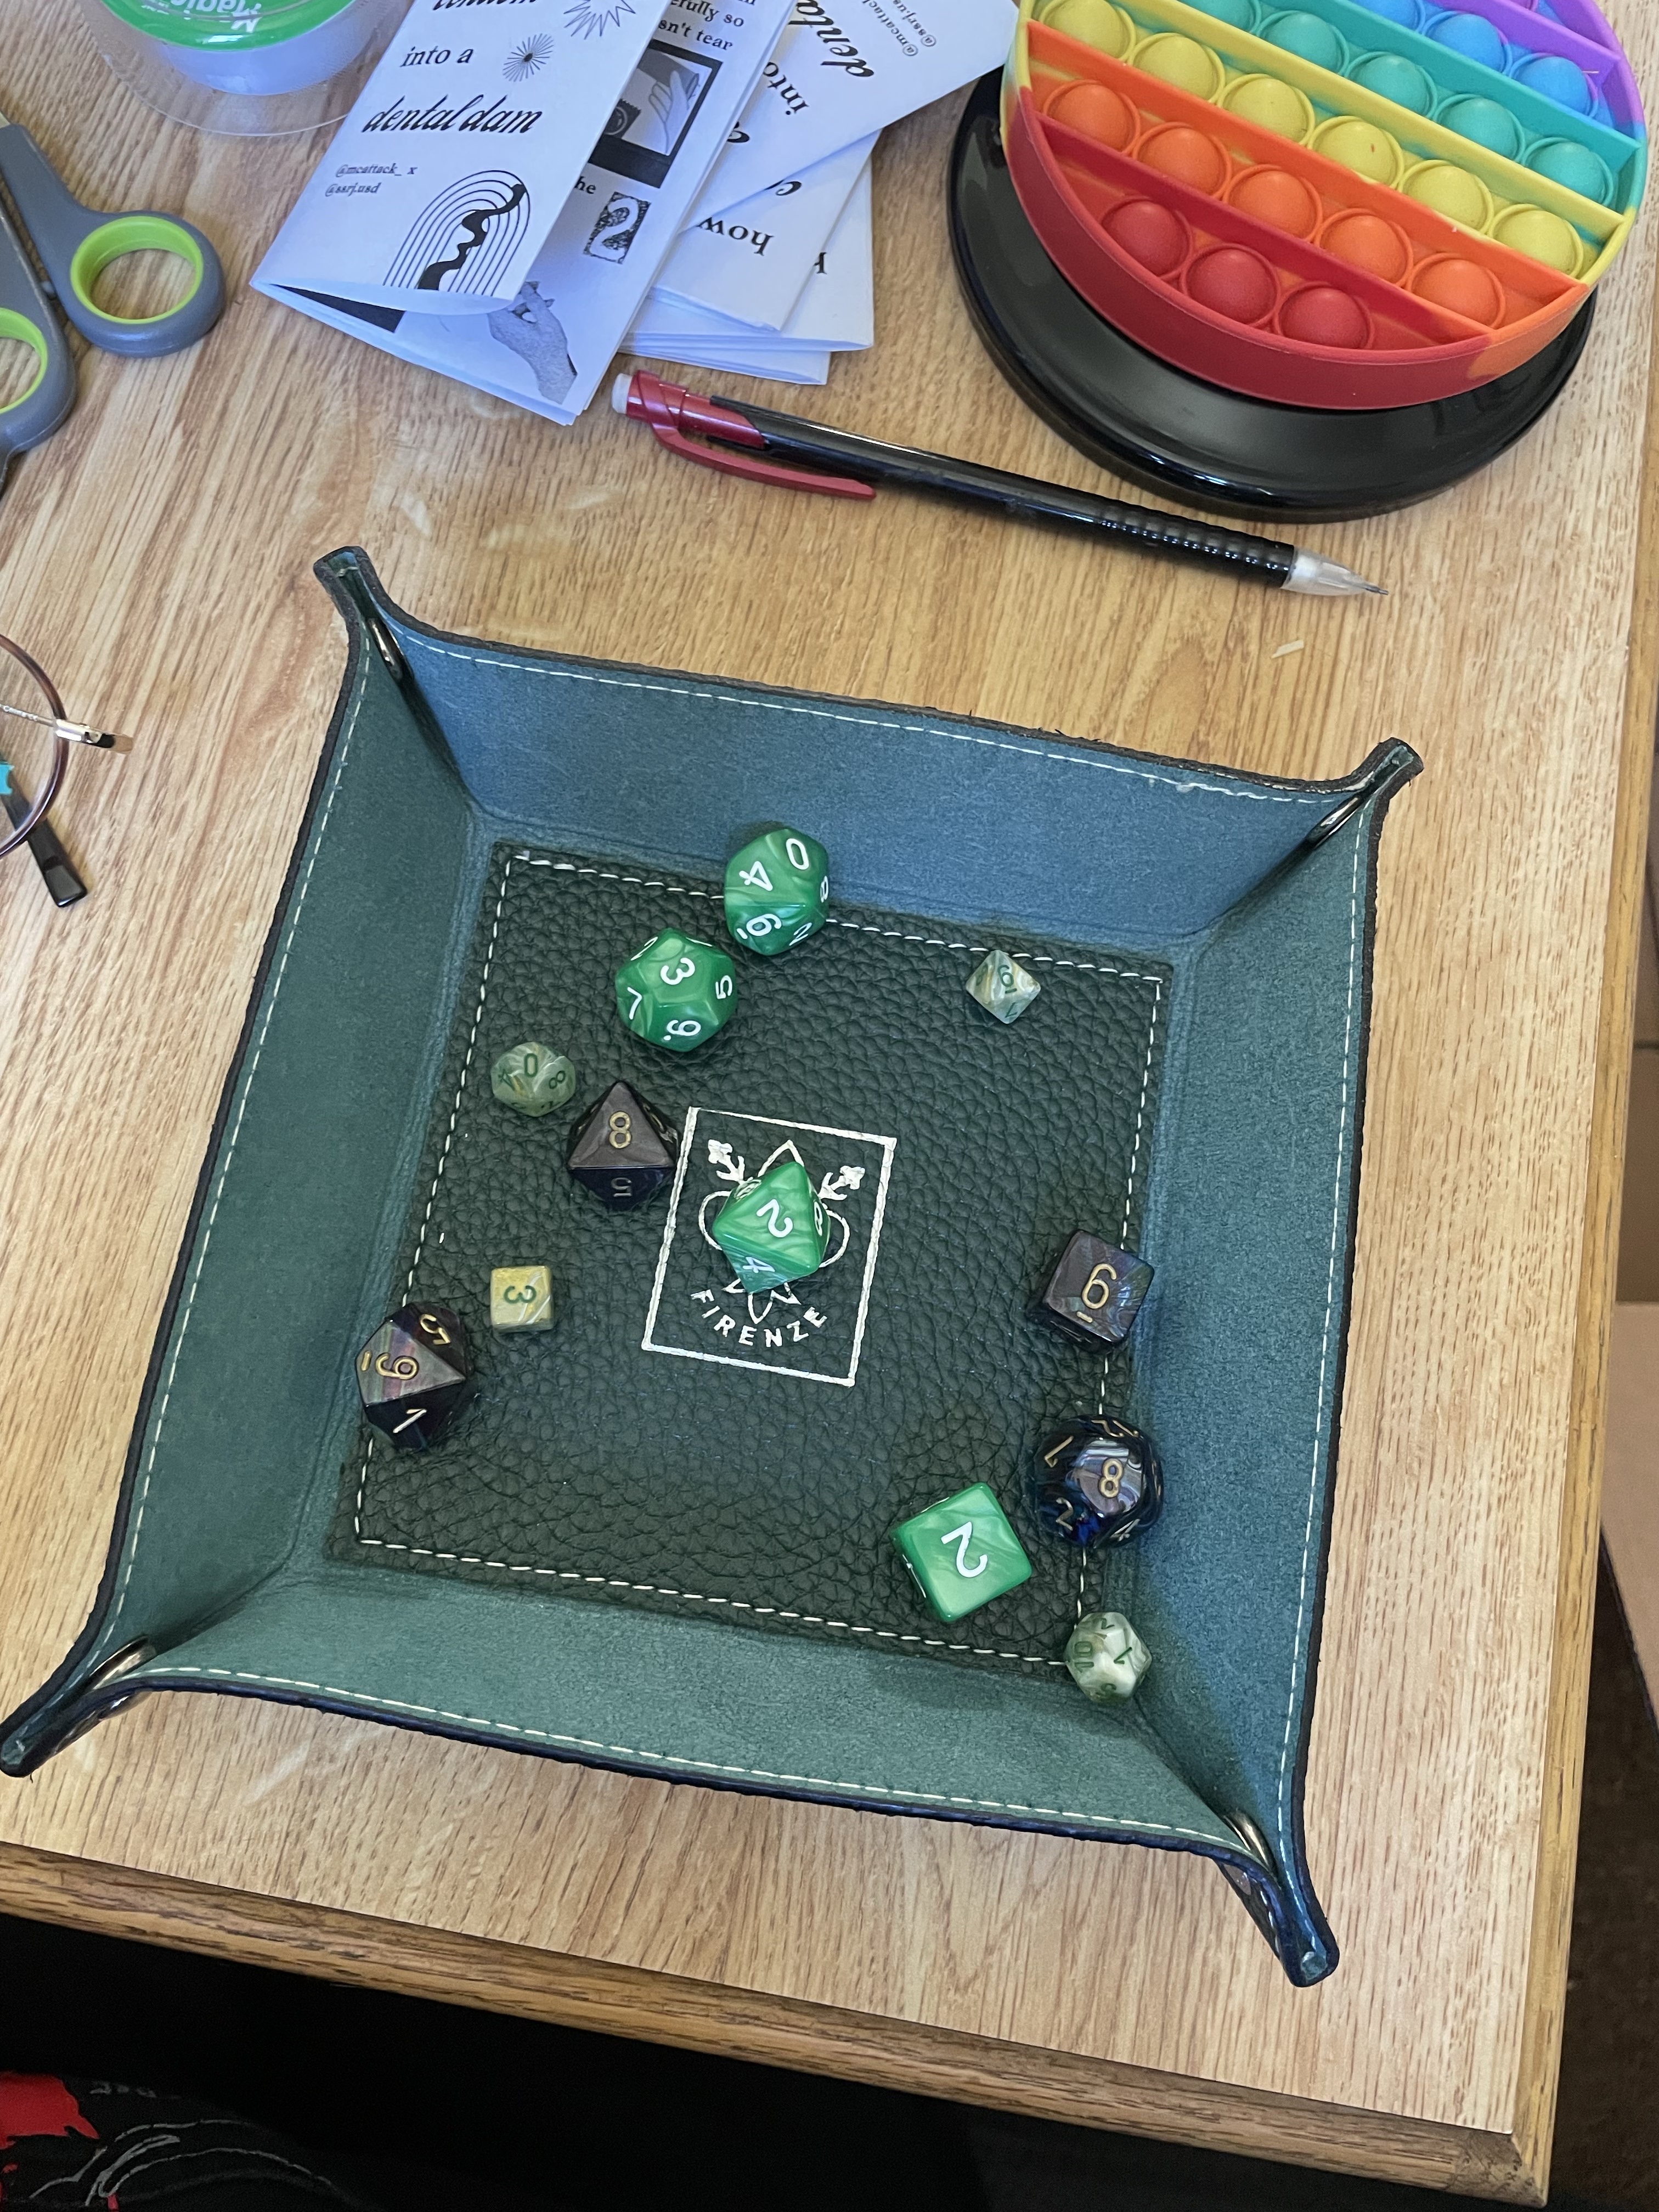eight: (997, 1400, 1195, 1566), (547, 1061, 704, 1228)
four: (704, 808, 854, 981)
nine: (335, 1287, 490, 1463)
one: (1053, 1601, 1164, 1710)
six: (1014, 1211, 1169, 1353), (938, 921, 1061, 1043)
three: (589, 906, 765, 1080), (469, 1261, 587, 1339)
two: (859, 1470, 1046, 1637)
zero: (479, 1029, 589, 1120)
